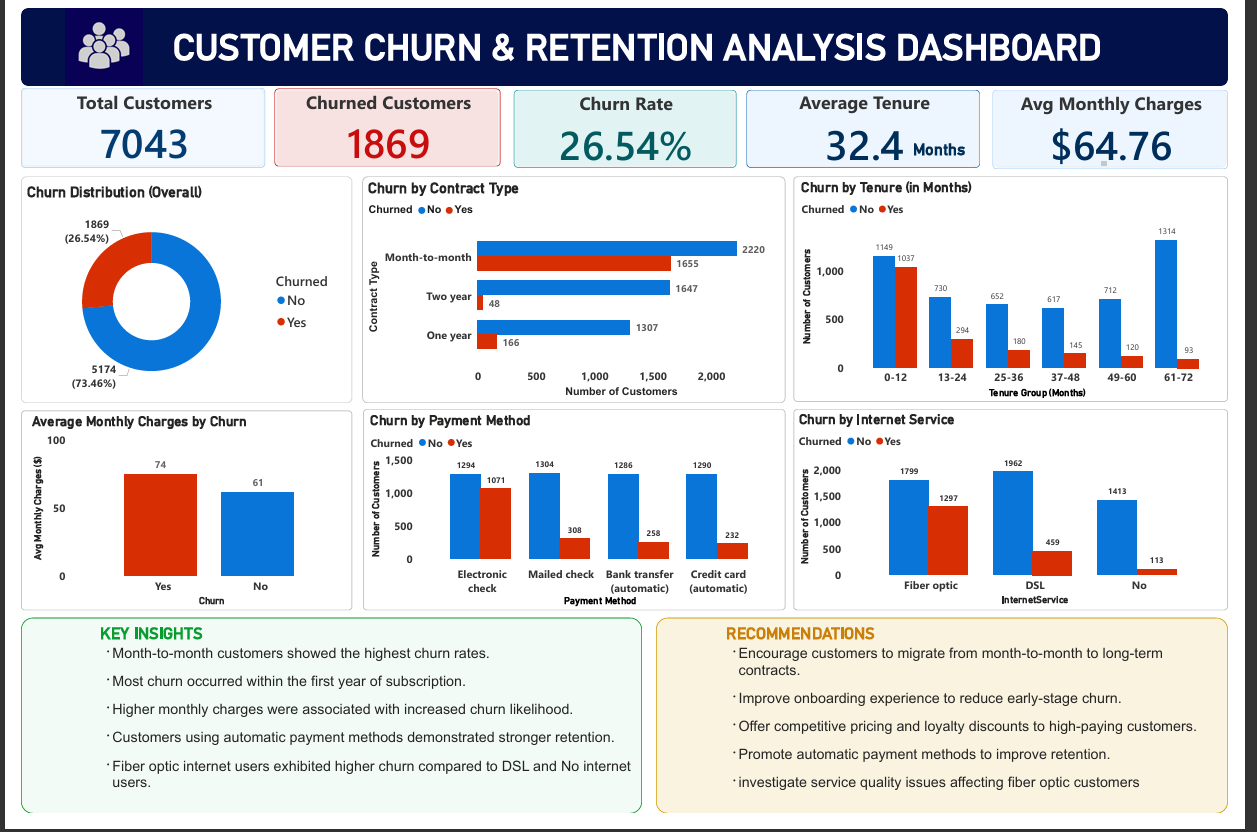

The page's visual inventory and layout, read from the dashboard file:
{"tool":"powerbi","page":{"name":"Page 1","canvas":[1800,1200],"ordinal":0},"visuals":[{"type":"cardVisual","fields":{"Data":["Telecom-Company-Customer-Churn.Total Customers"]},"box":[0,118.9,364.2,118.9],"z":0},{"type":"cardVisual","fields":{"Data":["Telecom-Company-Customer-Churn.Average Tenure"]},"box":[1081.7,121.7,348.3,116],"z":1000},{"type":"cardVisual","fields":{"Data":["Telecom-Company-Customer-Churn.Average Monthly Charges"]},"box":[1449.2,122.2,350.8,117.5],"z":2000},{"type":"cardVisual","fields":{"Data":["Telecom-Company-Customer-Churn.Churn Rate"]},"box":[735,121.7,331.7,116.7],"z":3000},{"type":"donutChart","title":"Churn Distribution (Overall)","fields":{"Category":["Telecom-Company-Customer-Churn.Churn"],"Y":["CountNonNull(Telecom-Company-Customer-Churn.customerID)"]},"box":[0,250.9,494.3,337.7],"z":4000},{"type":"clusteredBarChart","title":"Churn by Contract Type","fields":{"Category":["Telecom-Company-Customer-Churn.Contract"],"Y":["CountNonNull(Telecom-Company-Customer-Churn.customerID)"],"Series":["Telecom-Company-Customer-Churn.Churn"]},"box":[509.4,250.9,630.2,337.7],"z":5000},{"type":"clusteredColumnChart","title":"Churn by Tenure (in Months)","fields":{"Y":["CountNonNull(Telecom-Company-Customer-Churn.customerID)"],"Series":["Telecom-Company-Customer-Churn.Churn"],"Category":["Telecom-Company-Customer-Churn.Tenure Group"]},"box":[1152.4,250.8,647.6,336.5],"z":6000},{"type":"clusteredColumnChart","title":"Average Monthly Charges by Churn","fields":{"Category":["Telecom-Company-Customer-Churn.Churn"],"Y":["Avg(Telecom-Company-Customer-Churn.MonthlyCharges)"]},"box":[0,600,493.7,298.4],"z":7000},{"type":"clusteredColumnChart","title":"Churn by Payment Method","fields":{"Category":["Telecom-Company-Customer-Churn.PaymentMethod"],"Y":["CountNonNull(Telecom-Company-Customer-Churn.customerID)"],"Series":["Telecom-Company-Customer-Churn.Churn"]},"box":[509.5,598.4,630.2,300],"z":8000},{"type":"shape","box":[0,0,1800,116],"z":9000},{"type":"cardVisual","fields":{"Data":["Telecom-Company-Customer-Churn.Churned Customers"]},"box":[378.3,120,336.7,116],"z":10000},{"type":"clusteredColumnChart","title":"Churn by Internet Service","fields":{"Category":["Telecom-Company-Customer-Churn.InternetService"],"Y":["CountNonNull(Telecom-Company-Customer-Churn.customerID)"],"Series":["Telecom-Company-Customer-Churn.Churn"]},"box":[1152.4,598.4,647.6,300],"z":11000},{"type":"shape","box":[0,909.5,925.7,291.5],"z":12000},{"type":"shape","box":[947.2,909.5,852.8,291.5],"z":13000},{"type":"textbox","title":"CUSTOMER CHURN & RETENTION ANALYSIS DASHBOARD","box":[220.8,26.7,1453.1,65.5],"z":14000},{"type":"textbox","title":"KEY INSIGHTS","box":[113.3,917.6,812.3,272.6],"z":15000},{"type":"textbox","title":"RECOMMENDATIONS","box":[1047.1,917.6,752.9,272.6],"z":16000},{"type":"textbox","title":"Months","box":[1325.1,197,299.6,43.2],"z":16001},{"type":"image","box":[0,0,247.4,116.4],"z":16002}]}

Visuals, with their boxes in screenshot pixels (x1, y1, x2, y2), scaled from the page's 1800x1200 canvas onto the 1257x832 screenshot:
cardVisual - Telecom-Company-Customer-Churn.Total Customers: pyautogui.locateOnScreen(0, 82, 254, 165)
cardVisual - Telecom-Company-Customer-Churn.Average Tenure: pyautogui.locateOnScreen(755, 84, 999, 165)
cardVisual - Telecom-Company-Customer-Churn.Average Monthly Charges: pyautogui.locateOnScreen(1012, 85, 1256, 166)
cardVisual - Telecom-Company-Customer-Churn.Churn Rate: pyautogui.locateOnScreen(513, 84, 745, 165)
"Churn Distribution (Overall)" donutChart: pyautogui.locateOnScreen(0, 174, 345, 408)
"Churn by Contract Type" clusteredBarChart: pyautogui.locateOnScreen(356, 174, 796, 408)
"Churn by Tenure (in Months)" clusteredColumnChart: pyautogui.locateOnScreen(805, 174, 1256, 407)
"Average Monthly Charges by Churn" clusteredColumnChart: pyautogui.locateOnScreen(0, 416, 345, 623)
"Churn by Payment Method" clusteredColumnChart: pyautogui.locateOnScreen(356, 415, 796, 623)
shape: pyautogui.locateOnScreen(0, 0, 1256, 80)
cardVisual - Telecom-Company-Customer-Churn.Churned Customers: pyautogui.locateOnScreen(264, 83, 499, 164)
"Churn by Internet Service" clusteredColumnChart: pyautogui.locateOnScreen(805, 415, 1256, 623)
shape: pyautogui.locateOnScreen(0, 631, 646, 831)
shape: pyautogui.locateOnScreen(661, 631, 1256, 831)
"CUSTOMER CHURN & RETENTION ANALYSIS DASHBOARD" textbox: pyautogui.locateOnScreen(154, 19, 1169, 64)
"KEY INSIGHTS" textbox: pyautogui.locateOnScreen(79, 636, 646, 825)
"RECOMMENDATIONS" textbox: pyautogui.locateOnScreen(731, 636, 1256, 825)
"Months" textbox: pyautogui.locateOnScreen(925, 137, 1135, 167)
image: pyautogui.locateOnScreen(0, 0, 173, 81)
